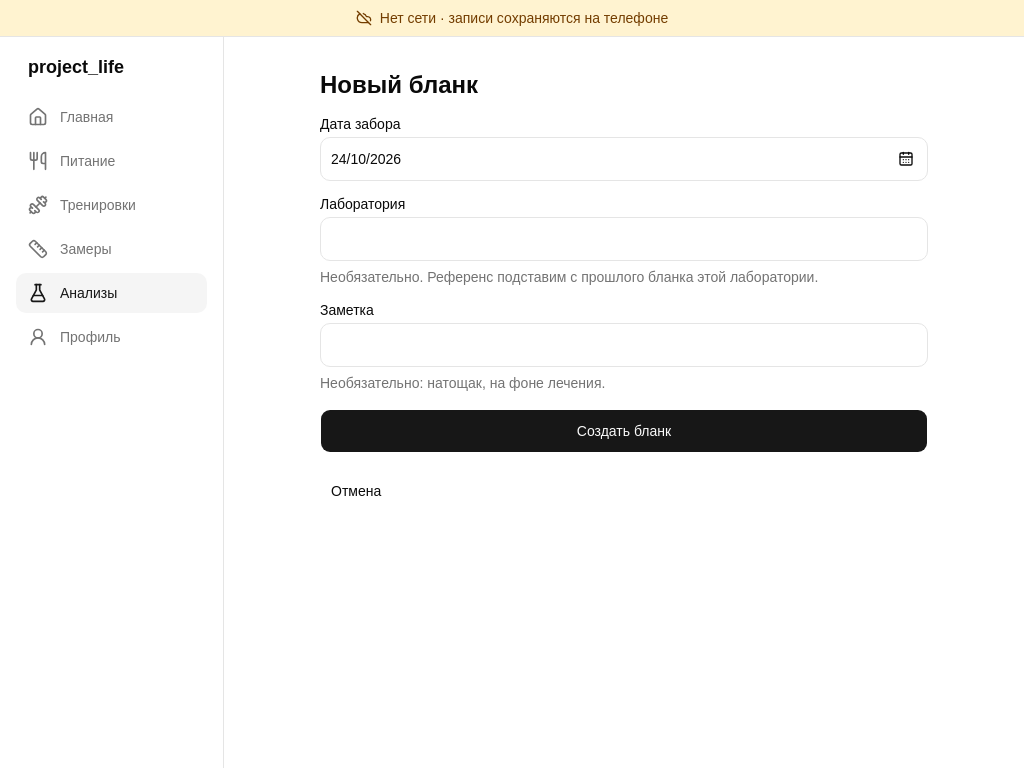
создаёт бланк без сети и сразу открывает поиск показателя; значение видно после сохранения
This screenshot has width=1024, height=768.
Type "Инвитро" into the field labelled "Лаборатория" at (624, 239), box [320,217,928,261]
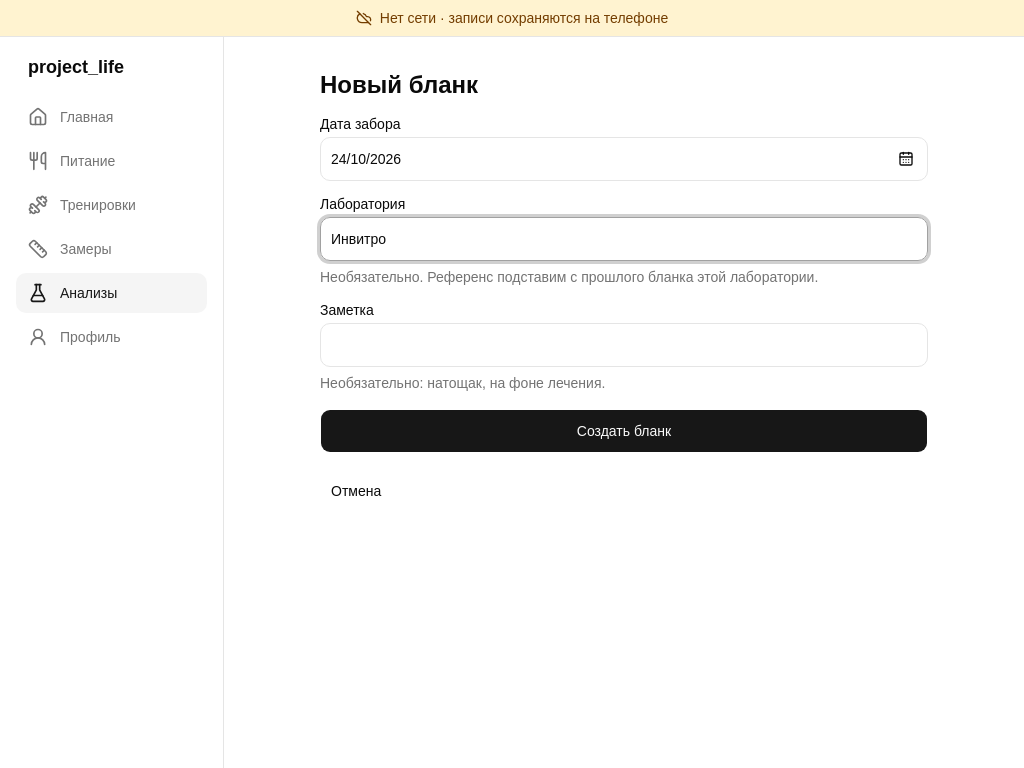
Click the button "Создать бланк" at (624, 431), box [320,409,928,453]
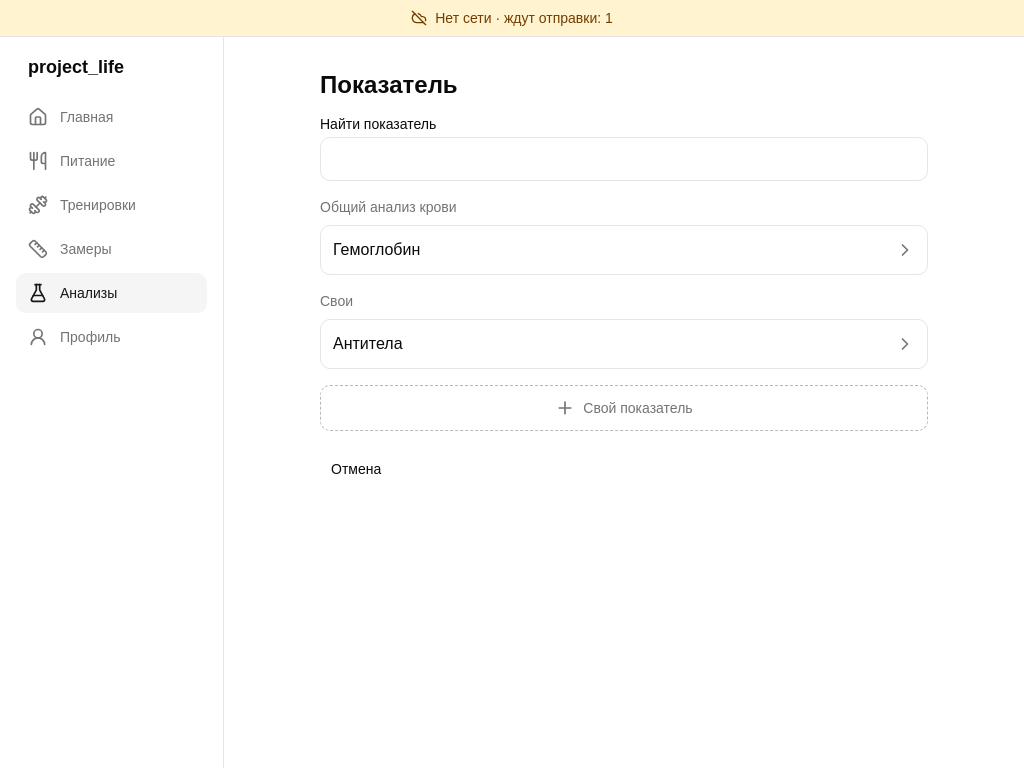
Click the link "Гемоглобин" at (377, 250), box [320,225,928,275]
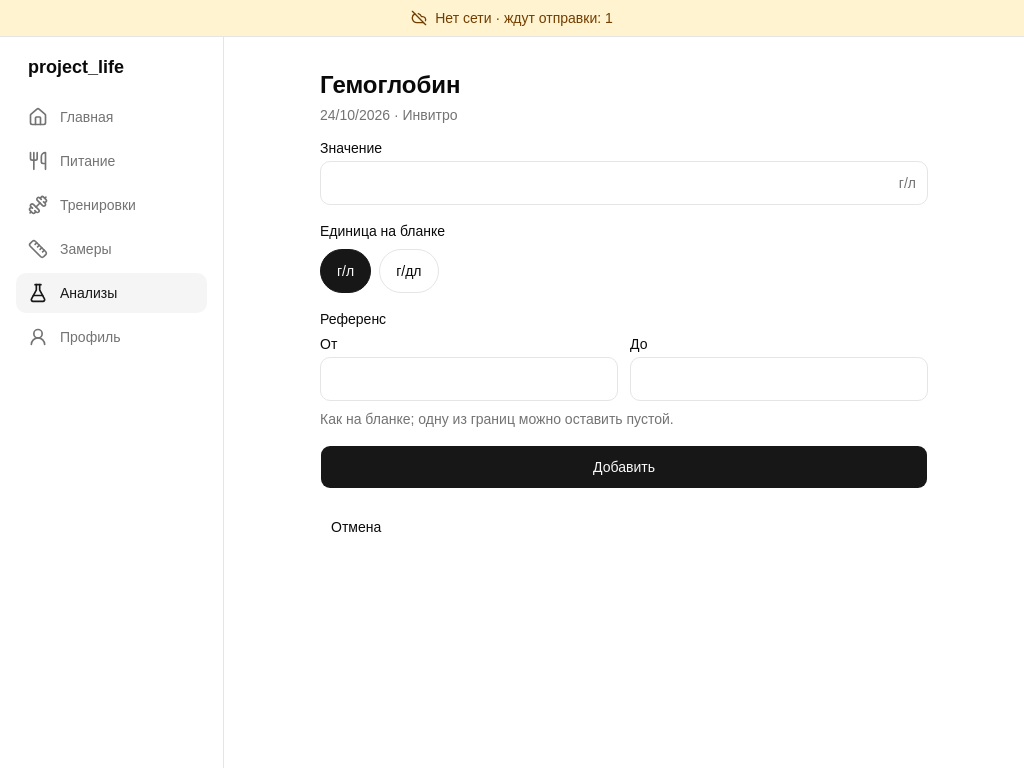
Type "100" into the field labelled "Значение" at (624, 183), box [320,161,928,205]
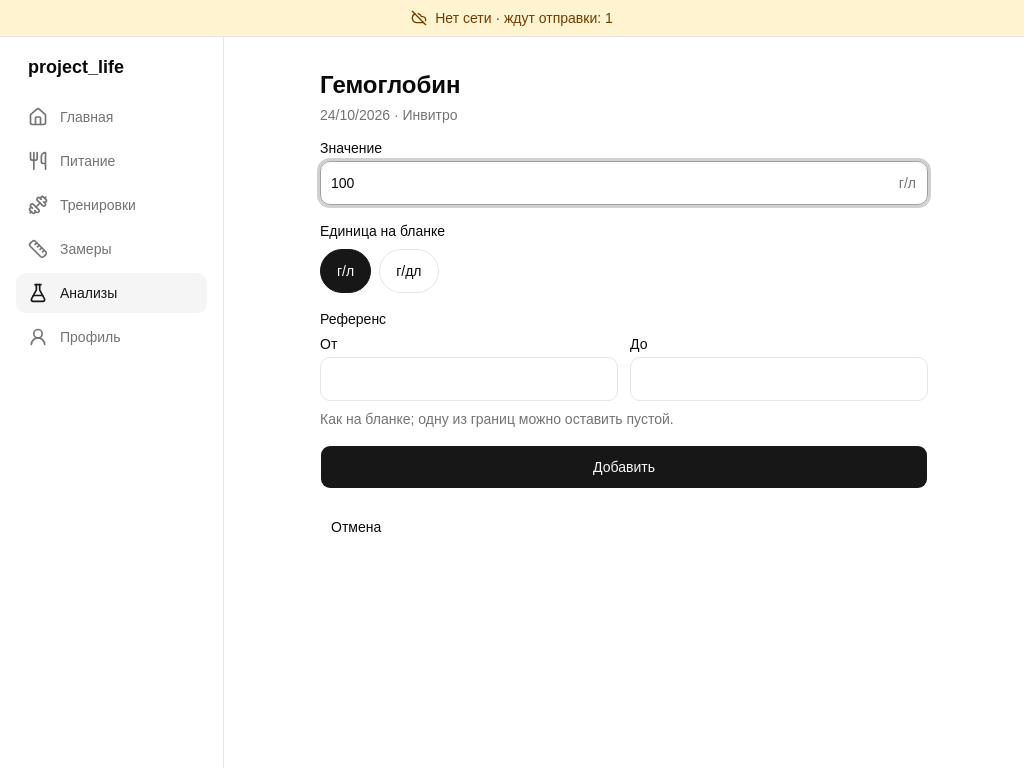
Type "120" into the field labelled "От" at (469, 379), box [320,357,618,401]
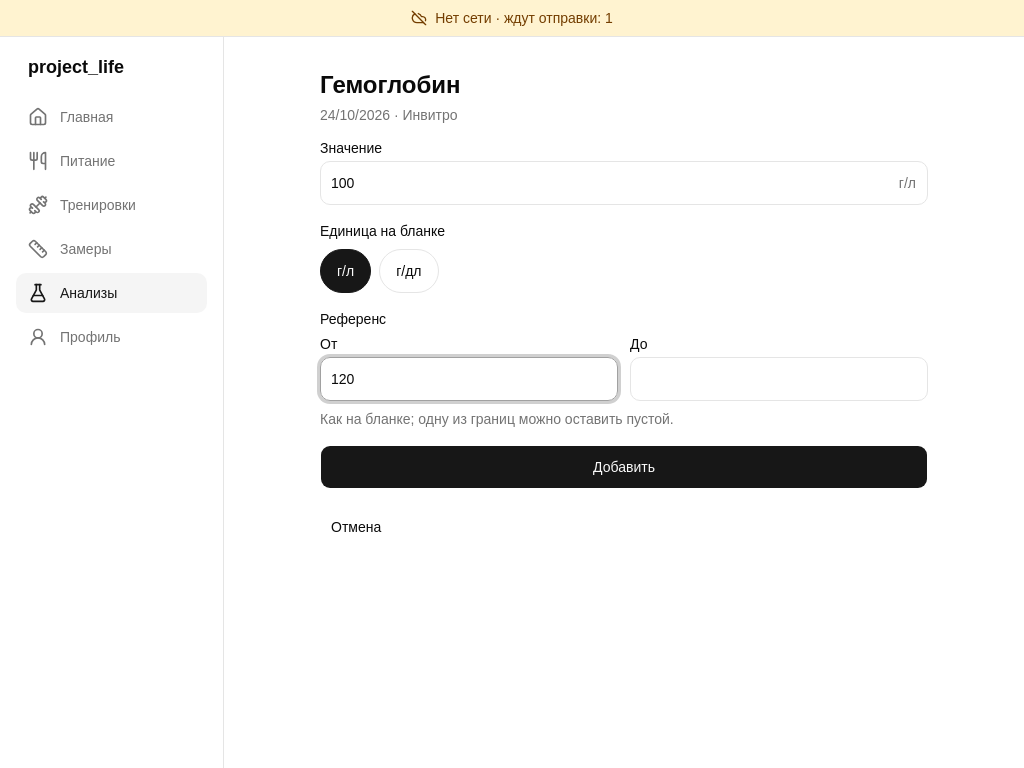
Click the button "Добавить" at (624, 467), box [320,445,928,489]
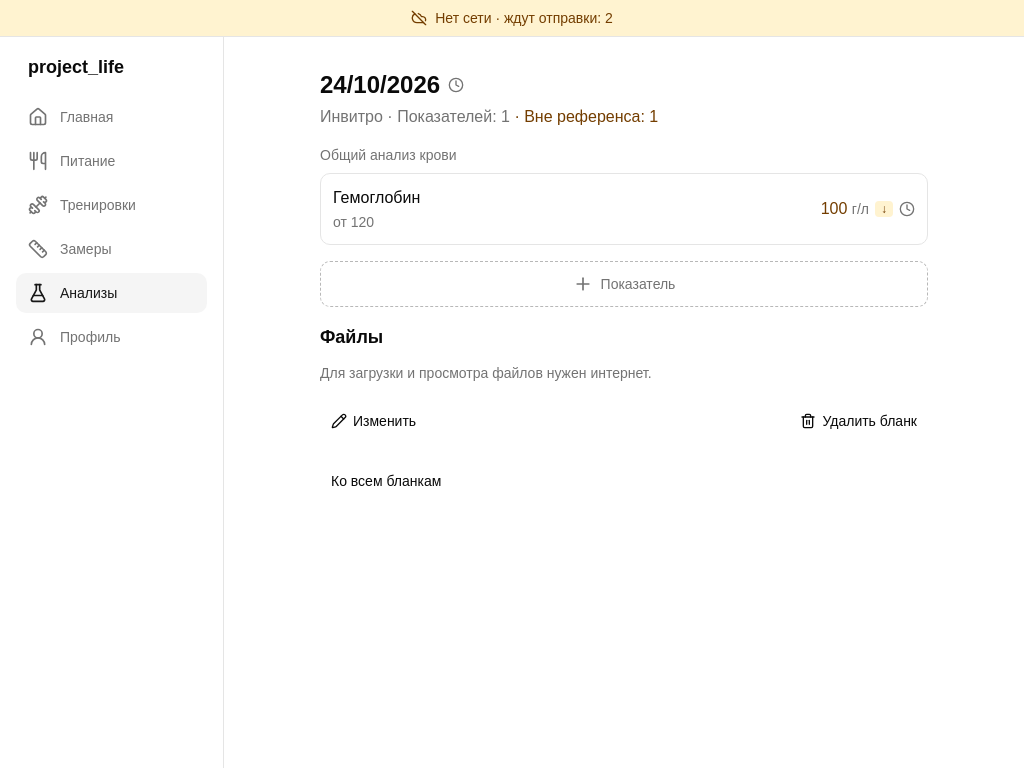
Check: the picture named "ниже референса" is shown, box [875,201,893,217]
